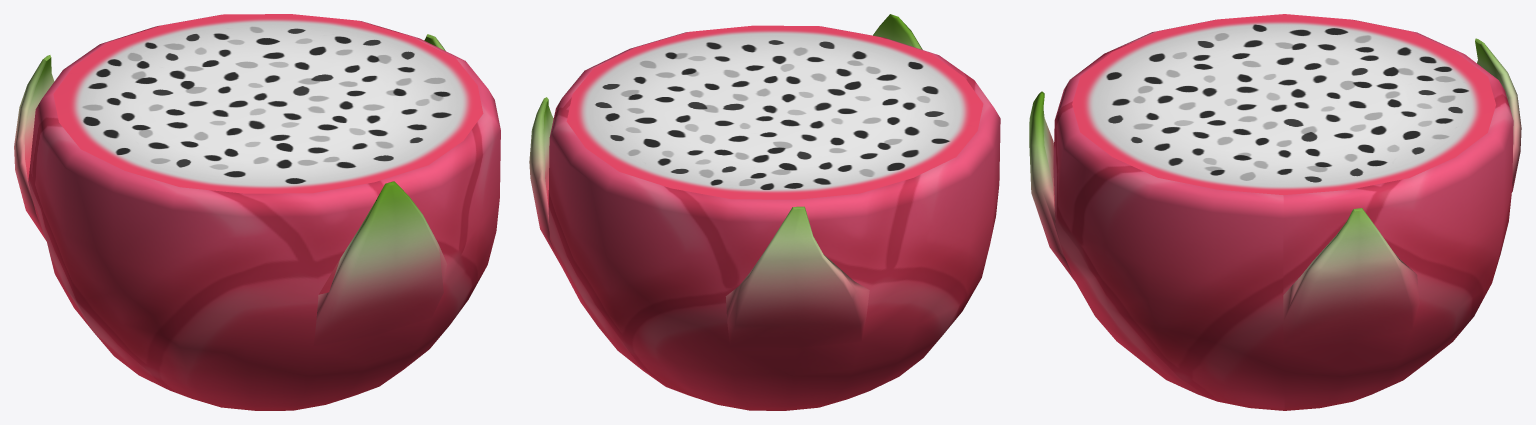
Rendered from Dragonfruit_Half.fbx.
3 views of the same model, side by side, from view 1: azimuth 30°, elevation 25°; view 2: azimuth 150°, elevation 25°; view 3: azimuth 270°, elevation 25° (orthographic). The views are drawn at different scales.
Parts seen in each view (by area): view 1: Dragonfruit_Half; view 2: Dragonfruit_Half; view 3: Dragonfruit_Half.
Part boxes in pixels (left/top/right/bottom): Dragonfruit_Half: left=14, top=14, right=500, bottom=410; Dragonfruit_Half: left=529, top=14, right=1000, bottom=410; Dragonfruit_Half: left=1029, top=14, right=1521, bottom=410.
Size of the model in its own units: 40.2 by 27.95 by 40.88.
